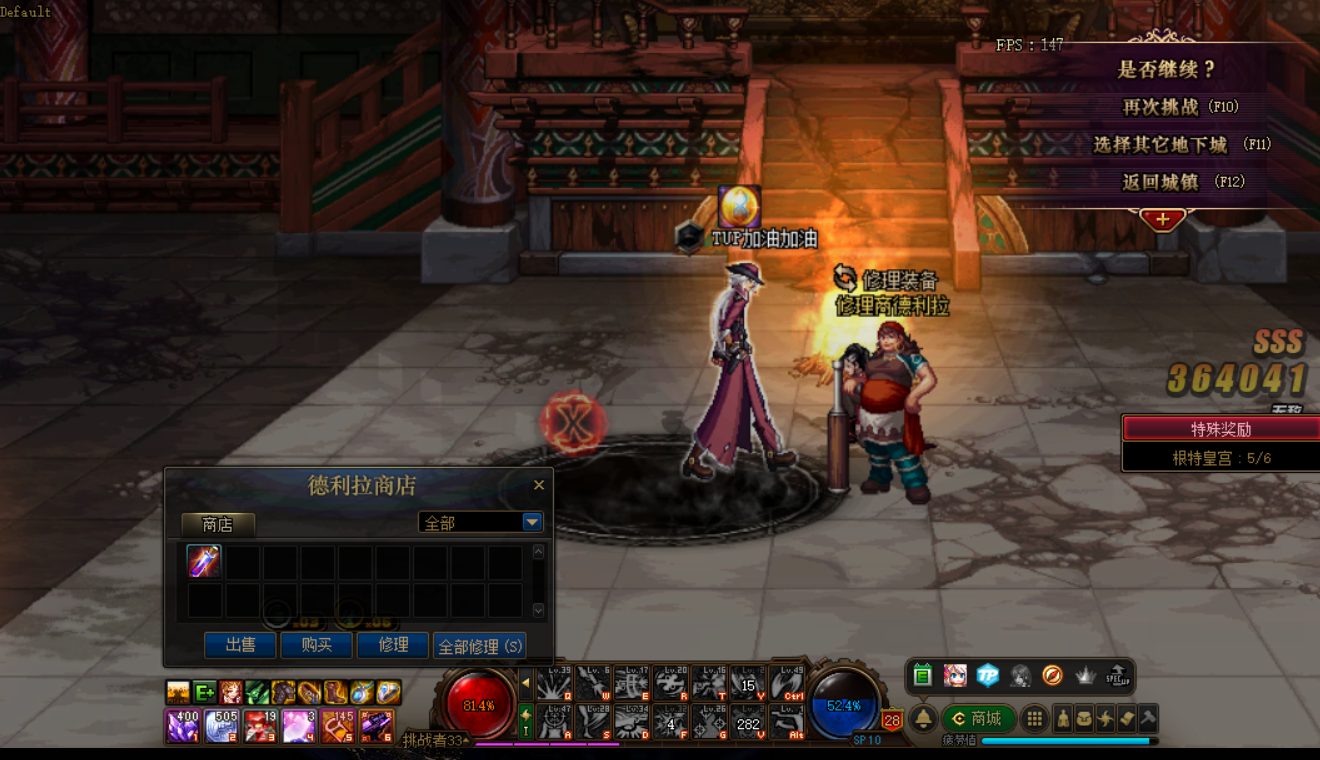warrior: (696, 260, 803, 489)
